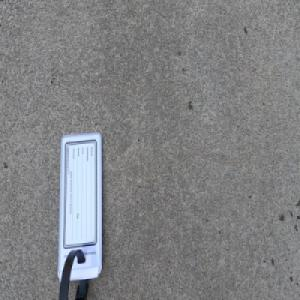LuggageTag: (56, 129, 104, 300)
